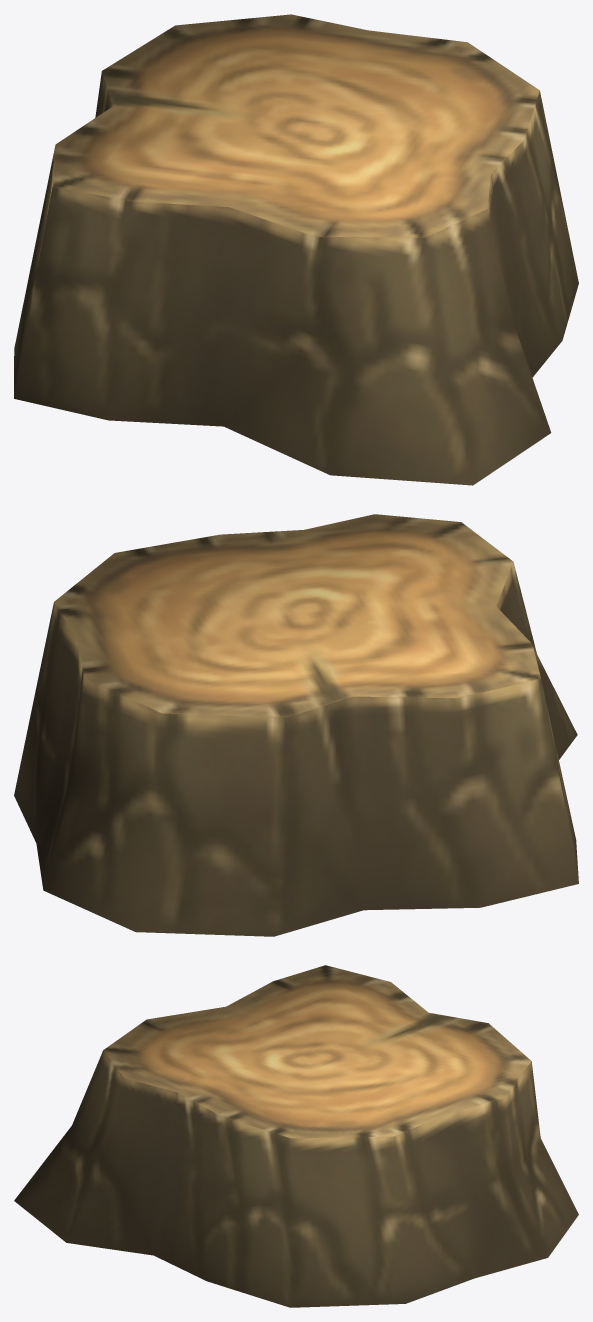
The model's file is Stage_CaoYuan_ShuZhuang01.FBX.
3 renders of one model, top to bottom at view 1: azimuth 30°, elevation 25°; view 2: azimuth 150°, elevation 25°; view 3: azimuth 270°, elevation 25°, orthographic. The views are drawn at different scales.
Visible parts, largest first — view 1: Stage_CaoYuan_ShuZhuang01; view 2: Stage_CaoYuan_ShuZhuang01; view 3: Stage_CaoYuan_ShuZhuang01.
Boxes of the visible parts, x1,y1,x2,y2 form: Stage_CaoYuan_ShuZhuang01: (14,14,578,485); Stage_CaoYuan_ShuZhuang01: (14,514,578,936); Stage_CaoYuan_ShuZhuang01: (14,965,578,1307).
Size of the model in its own units: 86.16 by 30.76 by 102.
